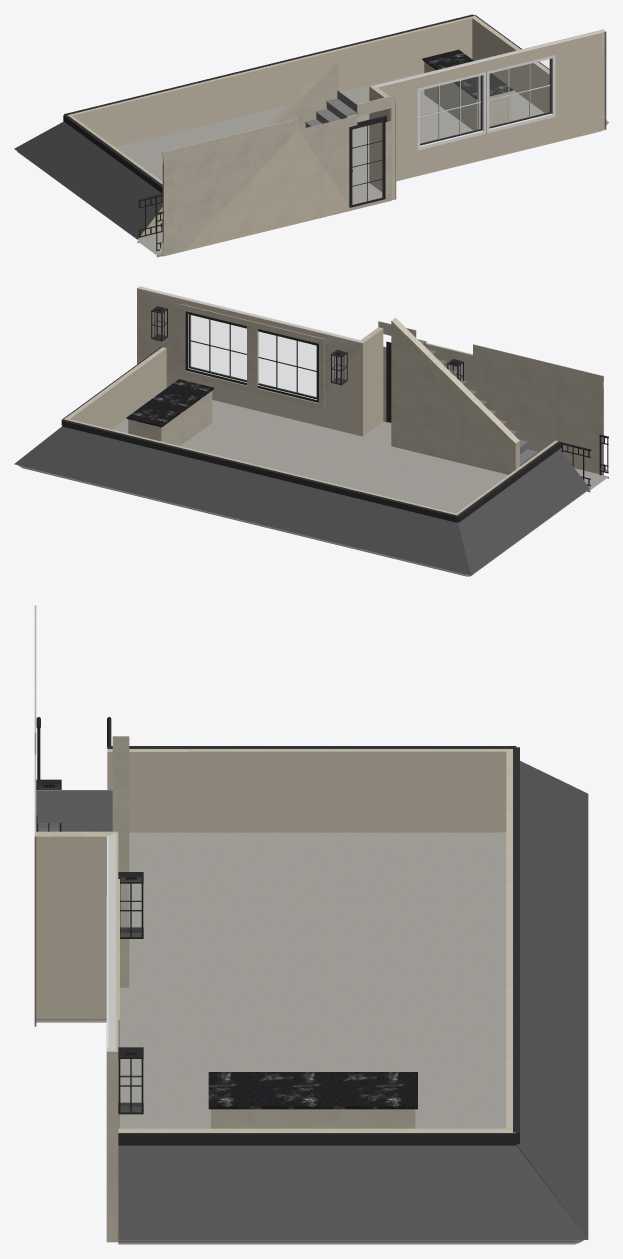
The model's file is rear-deck-885dcbd5c0fa.glb.
The picture shows the model from 3 angles, top to bottom: view 1: azimuth 30°, elevation 25°; view 2: azimuth 150°, elevation 25°; view 3: azimuth 270°, elevation 25°; orthographic projection. The views are drawn at different scales.
Visible parts, largest first — view 1: rear-deck-bd62734a7bc60eb7, rear-deck-32021a86c784f0e0, rear-deck-245f595ae2832e16, rear-deck-ded88bd99590d377, rear-deck-36ed5266b1bc40cd, rear-deck-85ede138eeba504d, rear-deck-cdd3b97a7e9637be, rear-deck-dd55bfb54febbe8b, rear-deck-b5f10ab9081c9955, rear-deck-7511cdbc362aca5e, rear-deck-6b027cd2e6bc0d64, rear-deck-385241de3d752b47 (+5 smaller); view 2: rear-deck-5febae1537653d02, rear-deck-ded88bd99590d377, rear-deck-bd62734a7bc60eb7, rear-deck-7511cdbc362aca5e, rear-deck-245f595ae2832e16, rear-deck-36ed5266b1bc40cd, rear-deck-cdd3b97a7e9637be, rear-deck-85ede138eeba504d, rear-deck-dd55bfb54febbe8b, rear-deck-d7a70b5818f54477, rear-deck-6b027cd2e6bc0d64, rear-deck-b5f10ab9081c9955 (+7 smaller); view 3: rear-deck-ded88bd99590d377, rear-deck-0e7e1de83ff8e24c, rear-deck-18b8f93424e26a44, rear-deck-5febae1537653d02, rear-deck-6b027cd2e6bc0d64, rear-deck-385241de3d752b47, rear-deck-5e5272df00660e4c, rear-deck-b5f10ab9081c9955, rear-deck-245f595ae2832e16, rear-deck-7511cdbc362aca5e, rear-deck-d7a70b5818f54477, rear-deck-32021a86c784f0e0 (+7 smaller).
Part boxes in pixels (x1=…): rear-deck-bd62734a7bc60eb7: x1=162, y1=95, x2=396, y2=256; rear-deck-32021a86c784f0e0: x1=68, y1=16, x2=472, y2=146; rear-deck-245f595ae2832e16: x1=369, y1=29, x2=604, y2=181; rear-deck-ded88bd99590d377: x1=115, y1=71, x2=544, y2=253; rear-deck-36ed5266b1bc40cd: x1=14, y1=121, x2=162, y2=238; rear-deck-85ede138eeba504d: x1=417, y1=72, x2=486, y2=150; rear-deck-cdd3b97a7e9637be: x1=487, y1=55, x2=555, y2=133; rear-deck-dd55bfb54febbe8b: x1=472, y1=15, x2=549, y2=112; rear-deck-b5f10ab9081c9955: x1=424, y1=61, x2=511, y2=130; rear-deck-7511cdbc362aca5e: x1=266, y1=59, x2=338, y2=129; rear-deck-6b027cd2e6bc0d64: x1=369, y1=86, x2=395, y2=200; rear-deck-385241de3d752b47: x1=422, y1=49, x2=512, y2=99; rear-deck-5febae1537653d02: x1=14, y1=426, x2=470, y2=575; rear-deck-ded88bd99590d377: x1=111, y1=400, x2=602, y2=513; rear-deck-bd62734a7bc60eb7: x1=378, y1=321, x2=603, y2=475; rear-deck-7511cdbc362aca5e: x1=391, y1=317, x2=519, y2=474; rear-deck-245f595ae2832e16: x1=137, y1=287, x2=363, y2=436; rear-deck-36ed5266b1bc40cd: x1=458, y1=449, x2=589, y2=575; rear-deck-cdd3b97a7e9637be: x1=185, y1=311, x2=246, y2=385; rear-deck-85ede138eeba504d: x1=257, y1=329, x2=318, y2=402; rear-deck-dd55bfb54febbe8b: x1=63, y1=347, x2=166, y2=429; rear-deck-d7a70b5818f54477: x1=62, y1=419, x2=457, y2=522; rear-deck-6b027cd2e6bc0d64: x1=361, y1=327, x2=383, y2=435; rear-deck-b5f10ab9081c9955: x1=128, y1=391, x2=212, y2=445; rear-deck-ded88bd99590d377: x1=36, y1=832, x2=506, y2=1128; rear-deck-0e7e1de83ff8e24c: x1=118, y1=1145, x2=587, y2=1239; rear-deck-18b8f93424e26a44: x1=107, y1=749, x2=511, y2=832; rear-deck-5febae1537653d02: x1=516, y1=761, x2=588, y2=1239; rear-deck-6b027cd2e6bc0d64: x1=36, y1=831, x2=117, y2=1018; rear-deck-385241de3d752b47: x1=208, y1=1072, x2=417, y2=1109; rear-deck-5e5272df00660e4c: x1=118, y1=1133, x2=516, y2=1145; rear-deck-b5f10ab9081c9955: x1=211, y1=1109, x2=415, y2=1128; rear-deck-245f595ae2832e16: x1=107, y1=832, x2=118, y2=1242; rear-deck-7511cdbc362aca5e: x1=112, y1=736, x2=129, y2=987; rear-deck-d7a70b5818f54477: x1=513, y1=747, x2=519, y2=1144; rear-deck-32021a86c784f0e0: x1=506, y1=749, x2=512, y2=1131.
Size of the model in its own units: 12.61 by 3.37 by 6.62.
22 materials, 5 textured.
